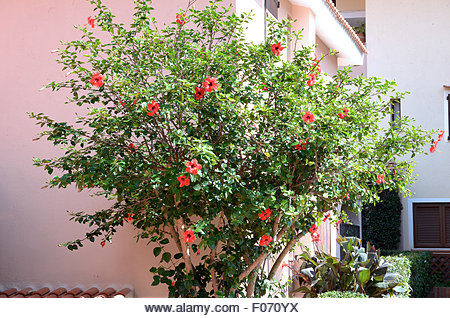Hibiscus: (168, 153, 205, 192), (142, 93, 171, 122), (81, 15, 113, 41), (297, 103, 324, 132), (86, 68, 115, 93), (261, 31, 285, 61), (176, 225, 205, 249), (252, 231, 281, 254), (191, 75, 217, 98), (259, 192, 276, 217)
